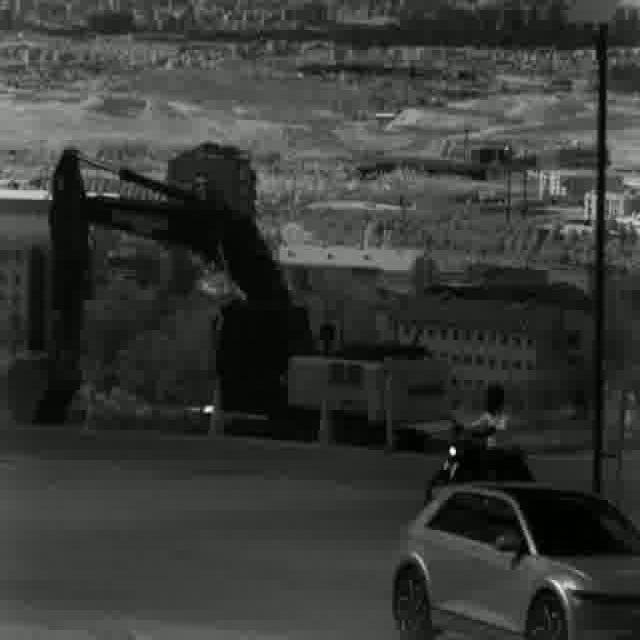Car: (392, 487, 638, 638)
Motorcycle: (424, 383, 530, 508)
